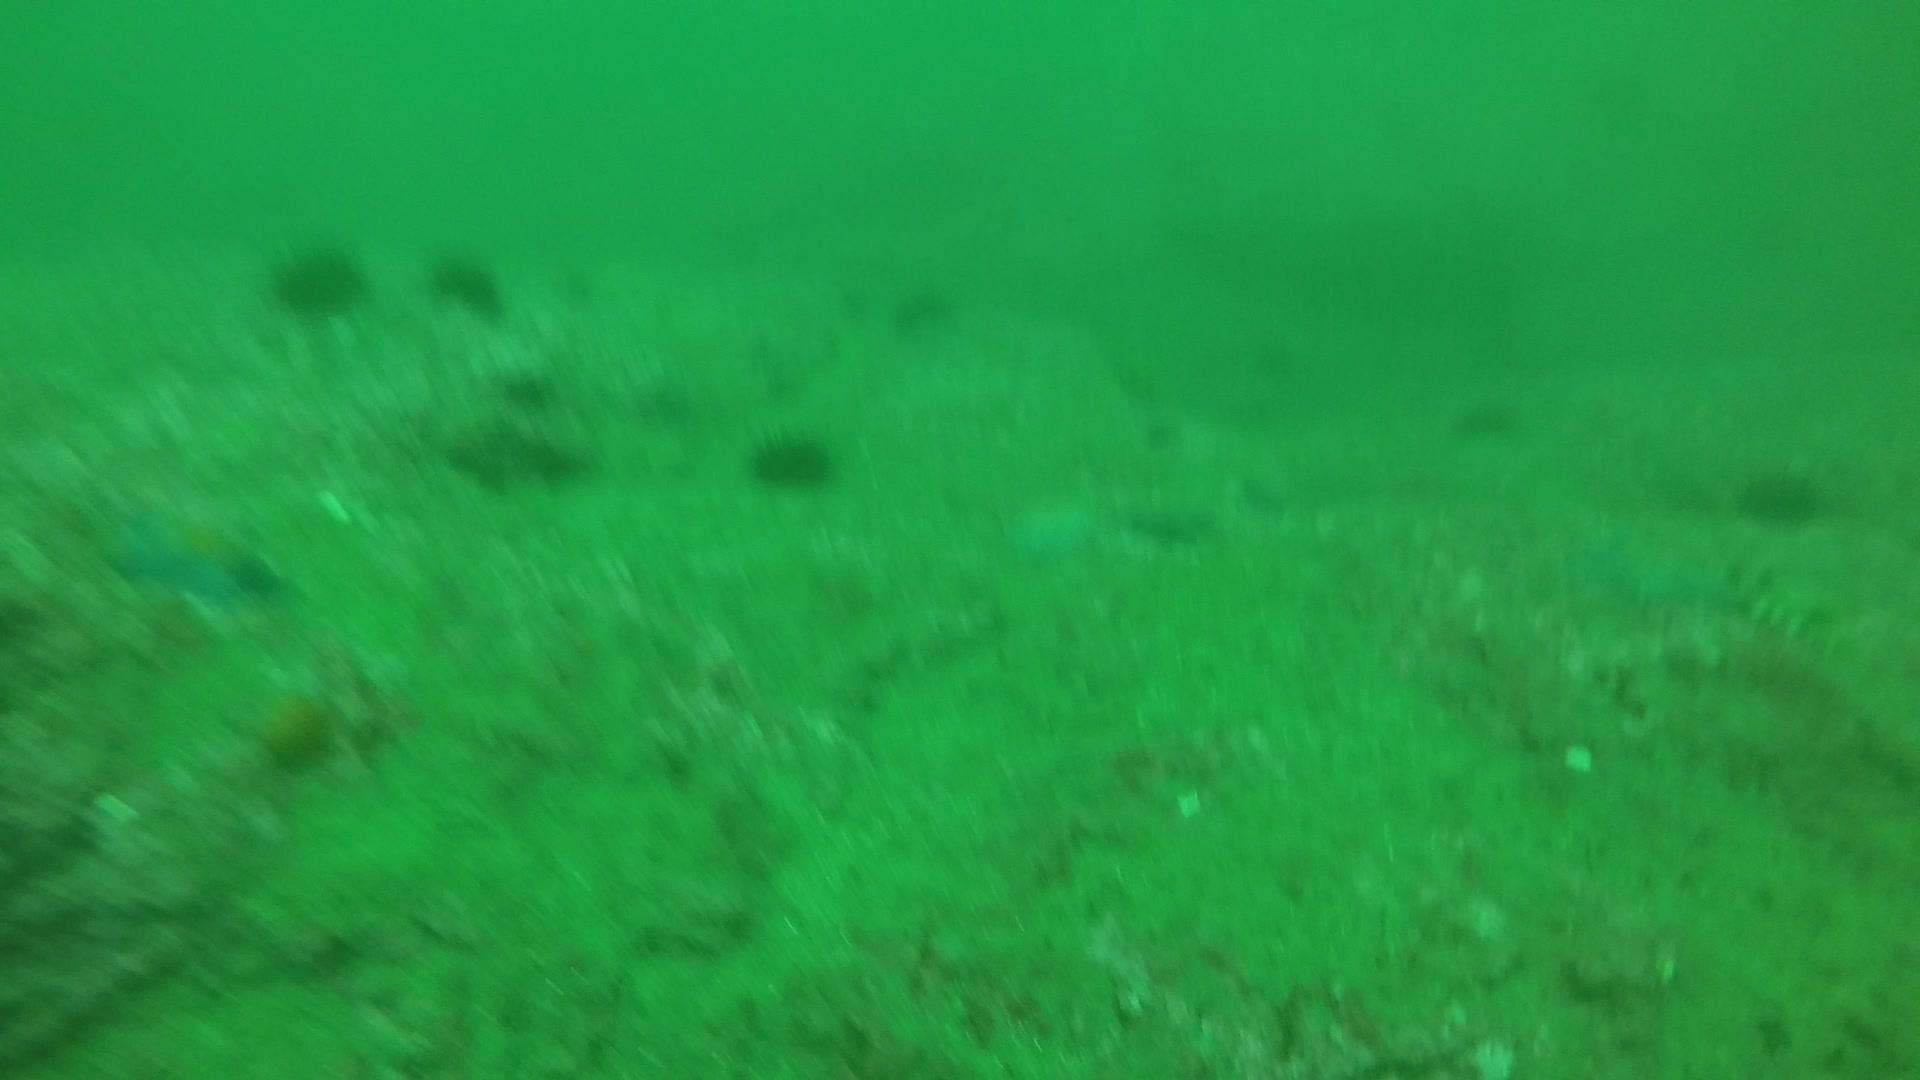echinus: (266, 236, 371, 322), (745, 423, 839, 495), (1735, 459, 1826, 529), (427, 247, 508, 318), (887, 276, 959, 339), (1451, 388, 1524, 444), (498, 363, 558, 414)
holothurian: (1720, 551, 1846, 646)
starfish: (108, 495, 284, 611), (1572, 510, 1741, 617), (236, 673, 349, 775), (1001, 487, 1101, 568)
